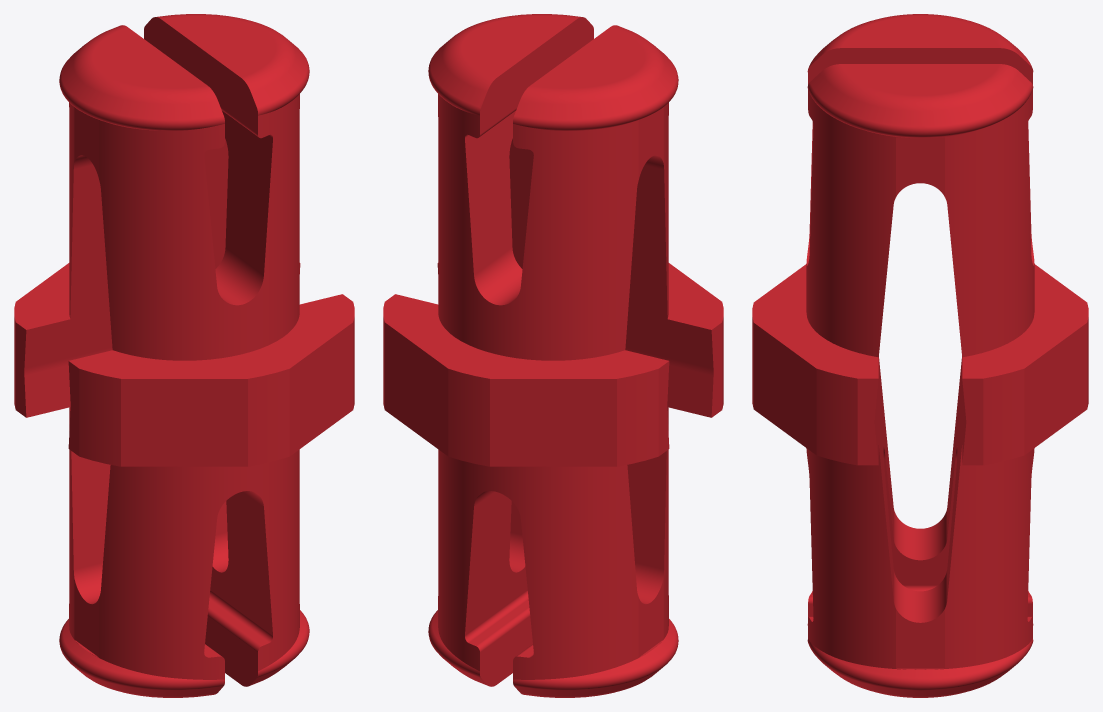
3 renders of one model, left to right at view 1: azimuth 30°, elevation 25°; view 2: azimuth 150°, elevation 25°; view 3: azimuth 270°, elevation 25°, orthographic.
Visible parts, largest first — view 1: 228-2500-2260; view 2: 228-2500-2260; view 3: 228-2500-2260.
Boxes of the visible parts, x1,y1,x2,y2 form: 228-2500-2260: (14, 14, 354, 697); 228-2500-2260: (383, 14, 723, 697); 228-2500-2260: (752, 14, 1088, 697).
Size of the model in its own units: 0.0058 by 0.0123 by 0.00624.
